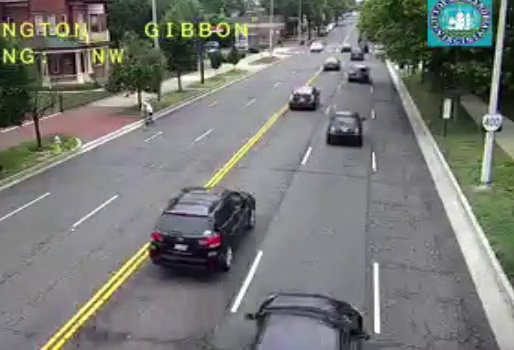car: (150, 189, 257, 270), (327, 112, 362, 139), (289, 88, 317, 109), (347, 64, 368, 83)
